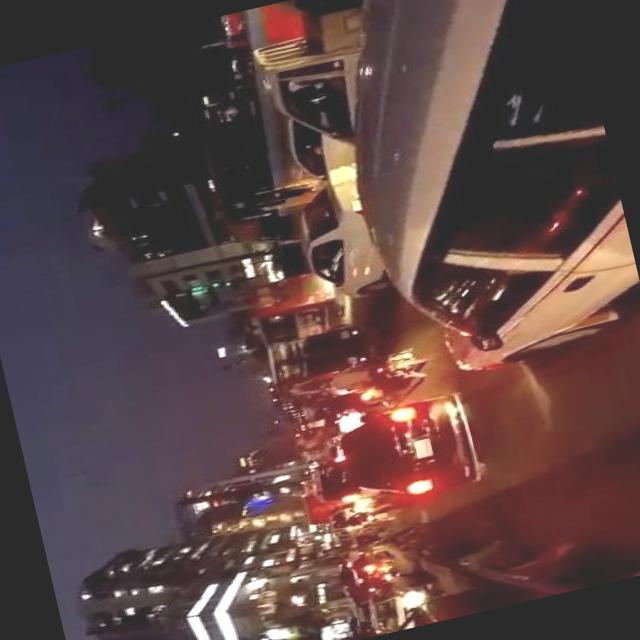bus: (243, 265, 349, 347)
car: (316, 0, 640, 389), (332, 391, 479, 512), (282, 160, 388, 308), (358, 568, 439, 636), (280, 111, 351, 185), (342, 548, 392, 586)
motorcycle: (366, 349, 425, 384)
truck: (248, 0, 390, 163), (264, 324, 370, 402), (304, 456, 378, 512)
